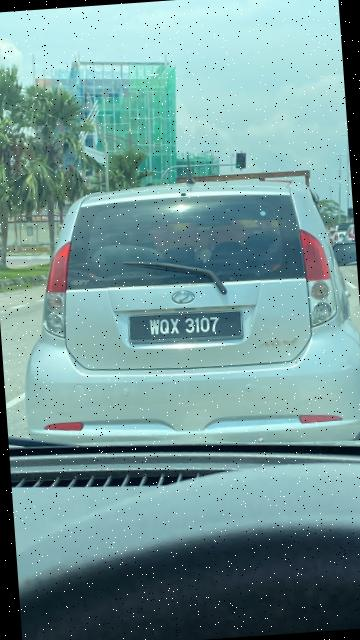License_Plate: (131, 309, 239, 345)
car: (8, 166, 360, 470)
